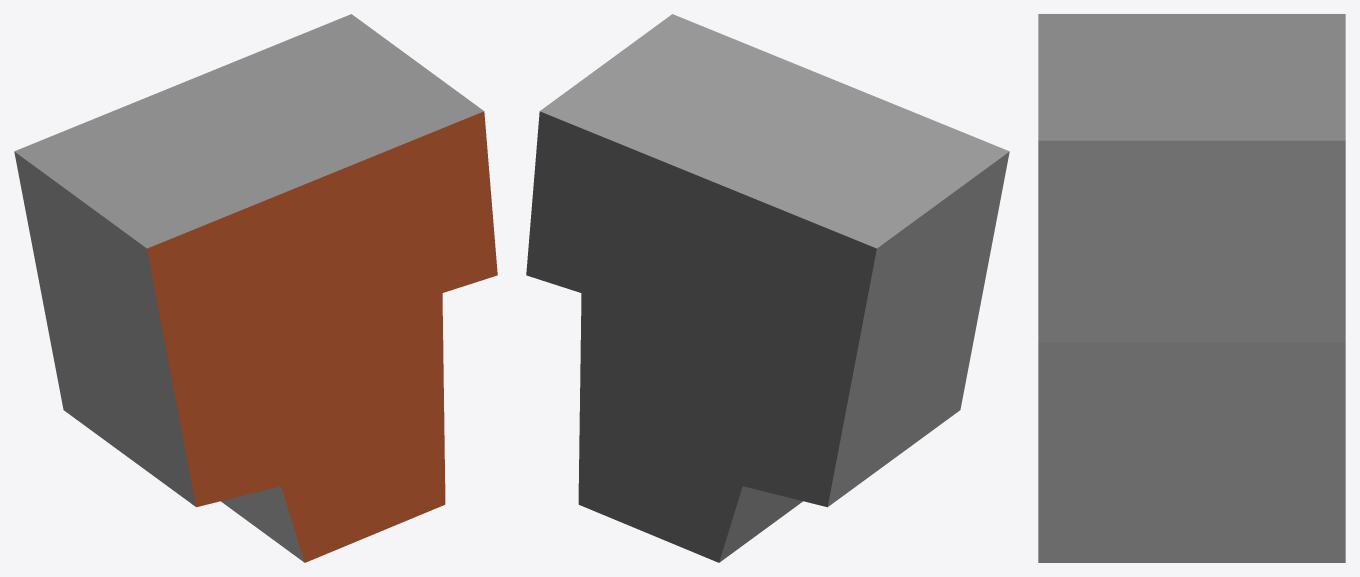
Rendered from construction_6074_assumed_A_Casa_h6m.obj.
The picture shows the model from 3 angles, left to right: view 1: azimuth 30°, elevation 25°; view 2: azimuth 150°, elevation 25°; view 3: azimuth 270°, elevation 25°; orthographic projection. The views are drawn at different scales.
Parts seen in each view (by area): view 1: construction_6074_assumed_A_Casa; view 2: construction_6074_assumed_A_Casa; view 3: construction_6074_assumed_A_Casa.
Part boxes in pixels (x1=…): construction_6074_assumed_A_Casa: x1=14, y1=14, x2=497, y2=562; construction_6074_assumed_A_Casa: x1=526, y1=14, x2=1009, y2=562; construction_6074_assumed_A_Casa: x1=1038, y1=14, x2=1345, y2=562.
Size of the model in its own units: 9.15 by 10.17 by 6.
